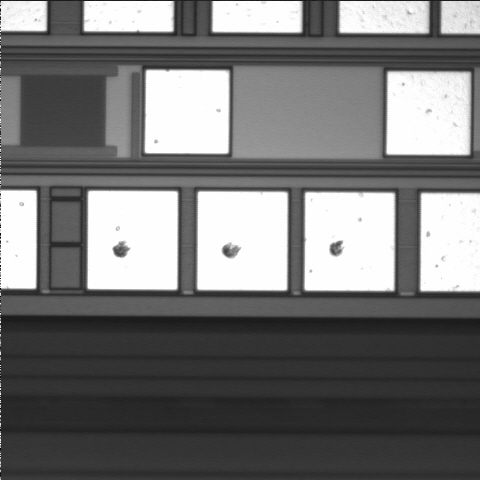pad: (197, 192, 288, 290), (88, 191, 178, 290), (305, 192, 395, 291), (145, 70, 229, 154), (387, 72, 470, 155)
